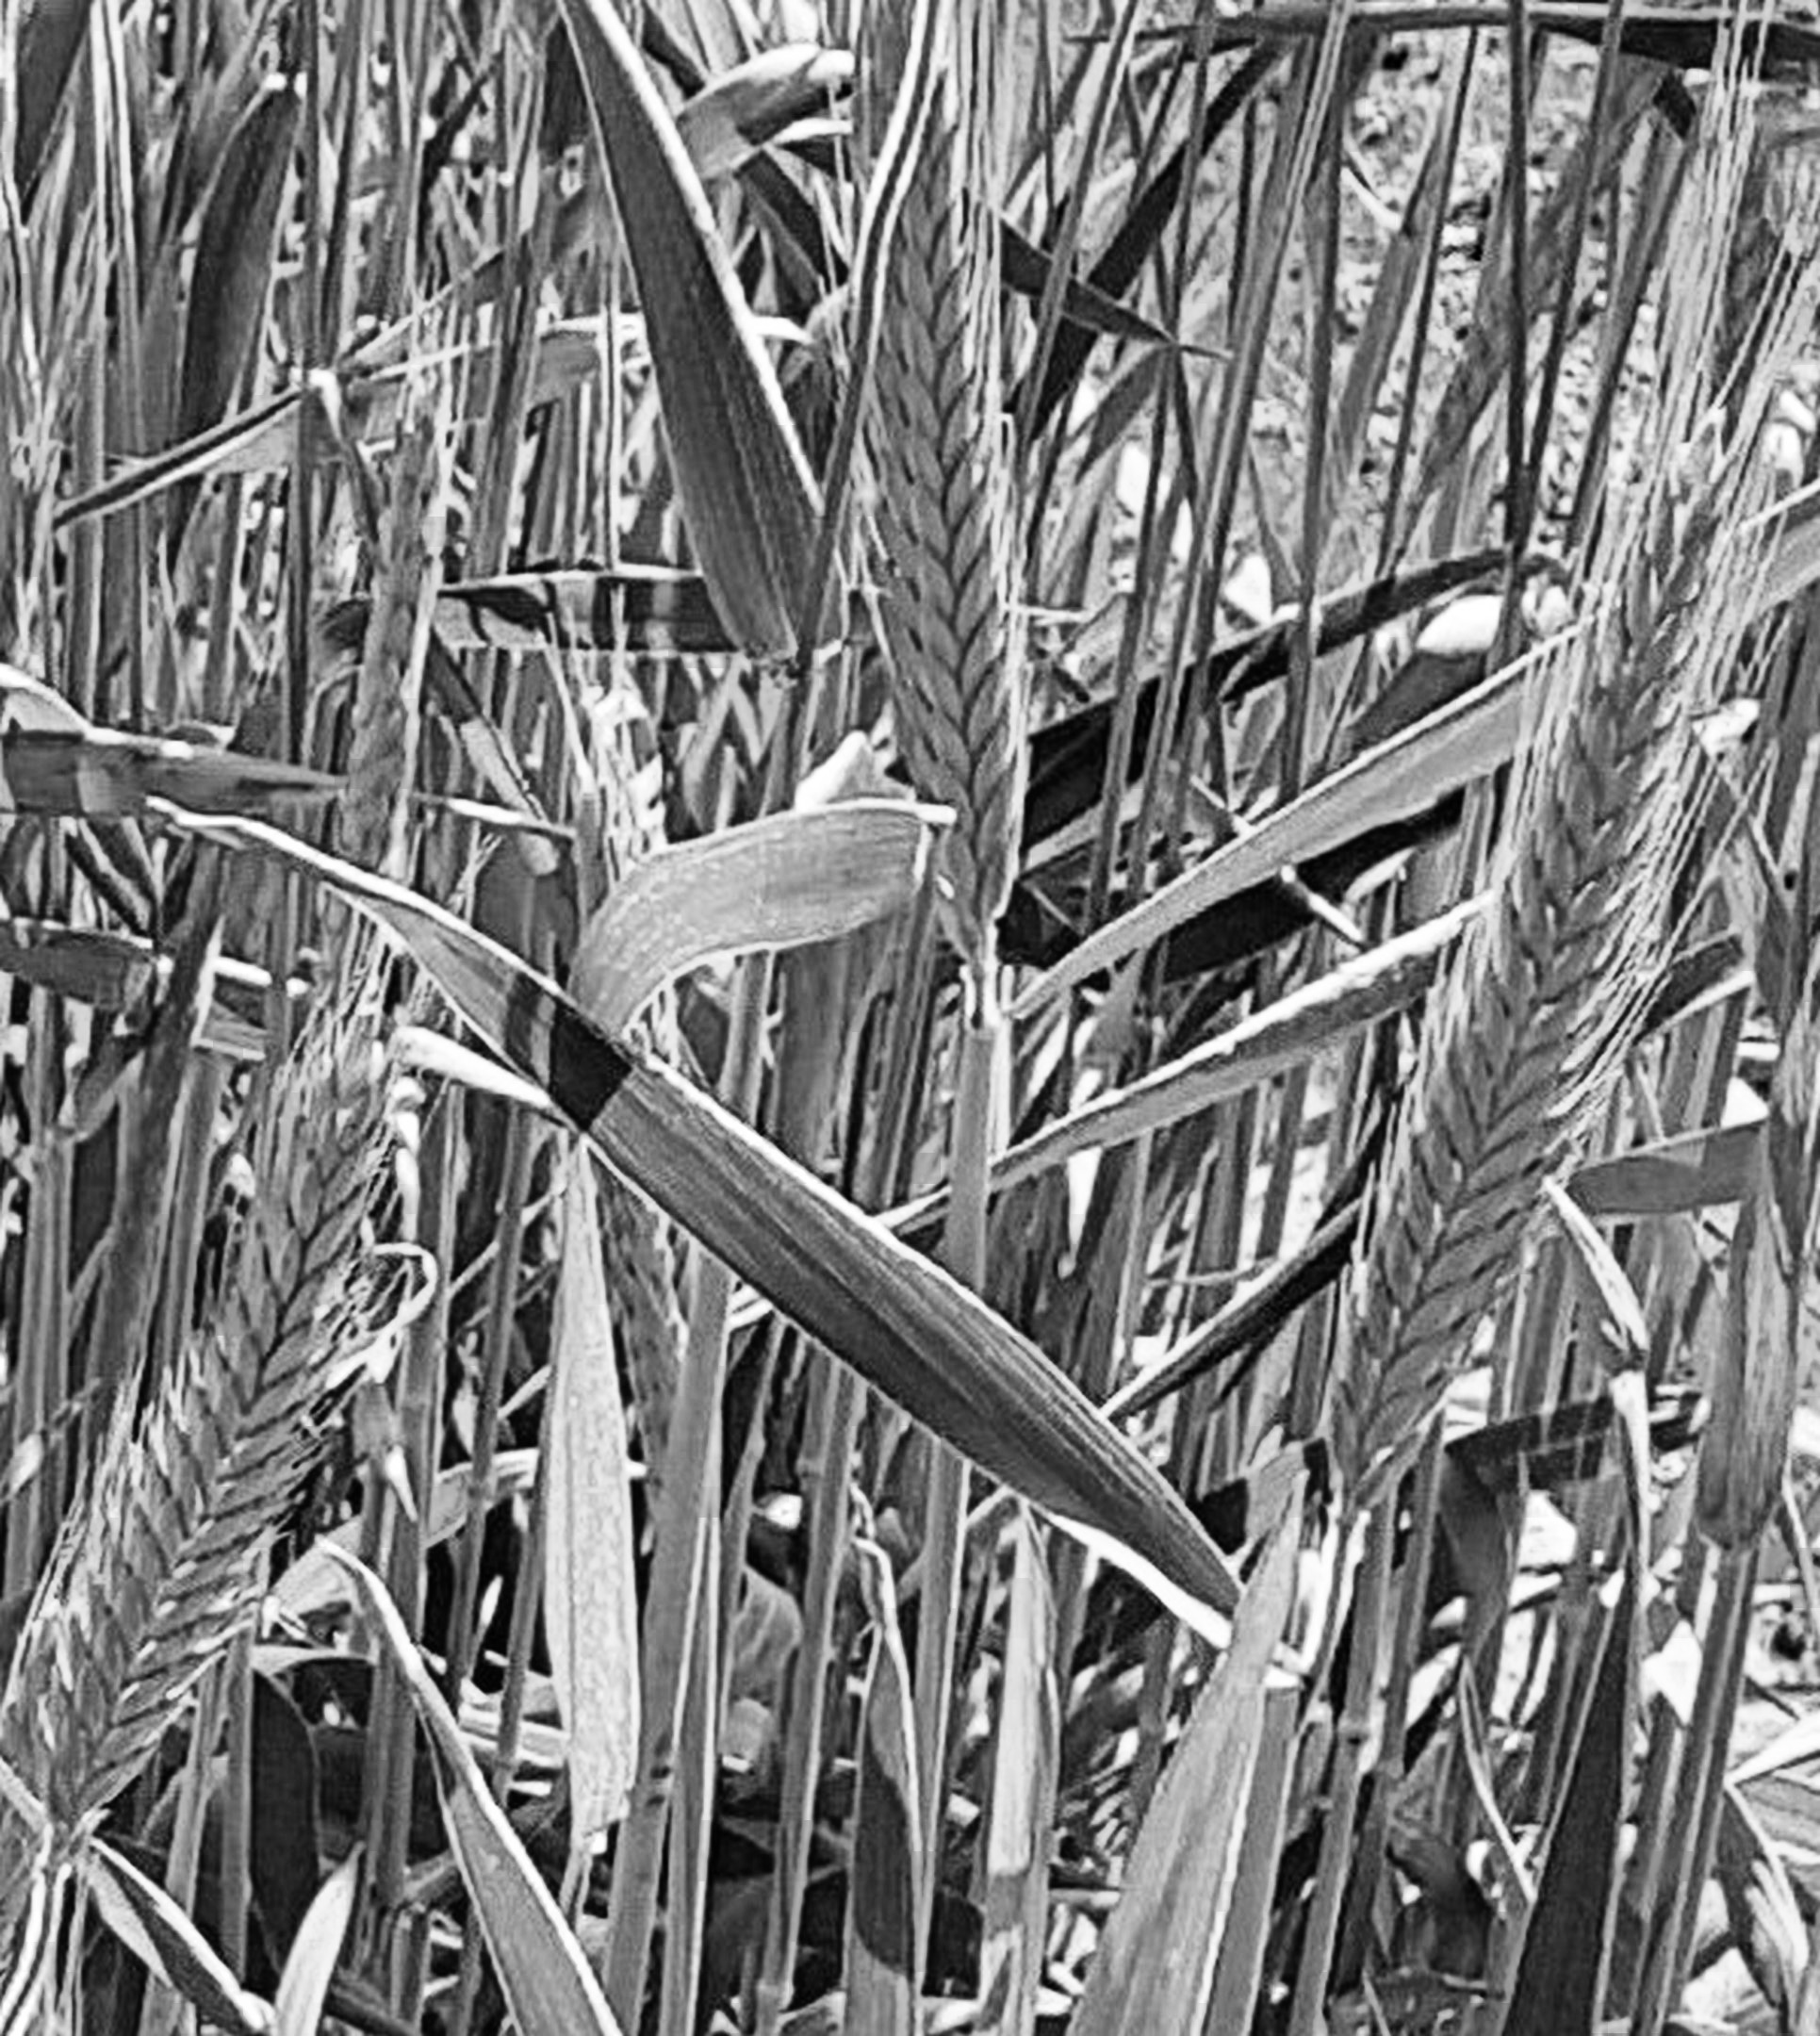Healthy Wheat: (1298, 466, 1746, 1518), (35, 1065, 416, 1818), (843, 61, 1105, 908)
